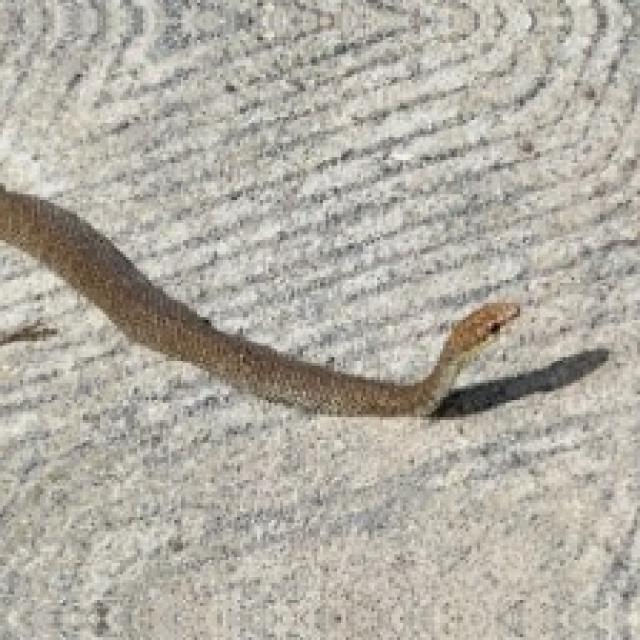paradise tree snake: (0, 186, 517, 414)
